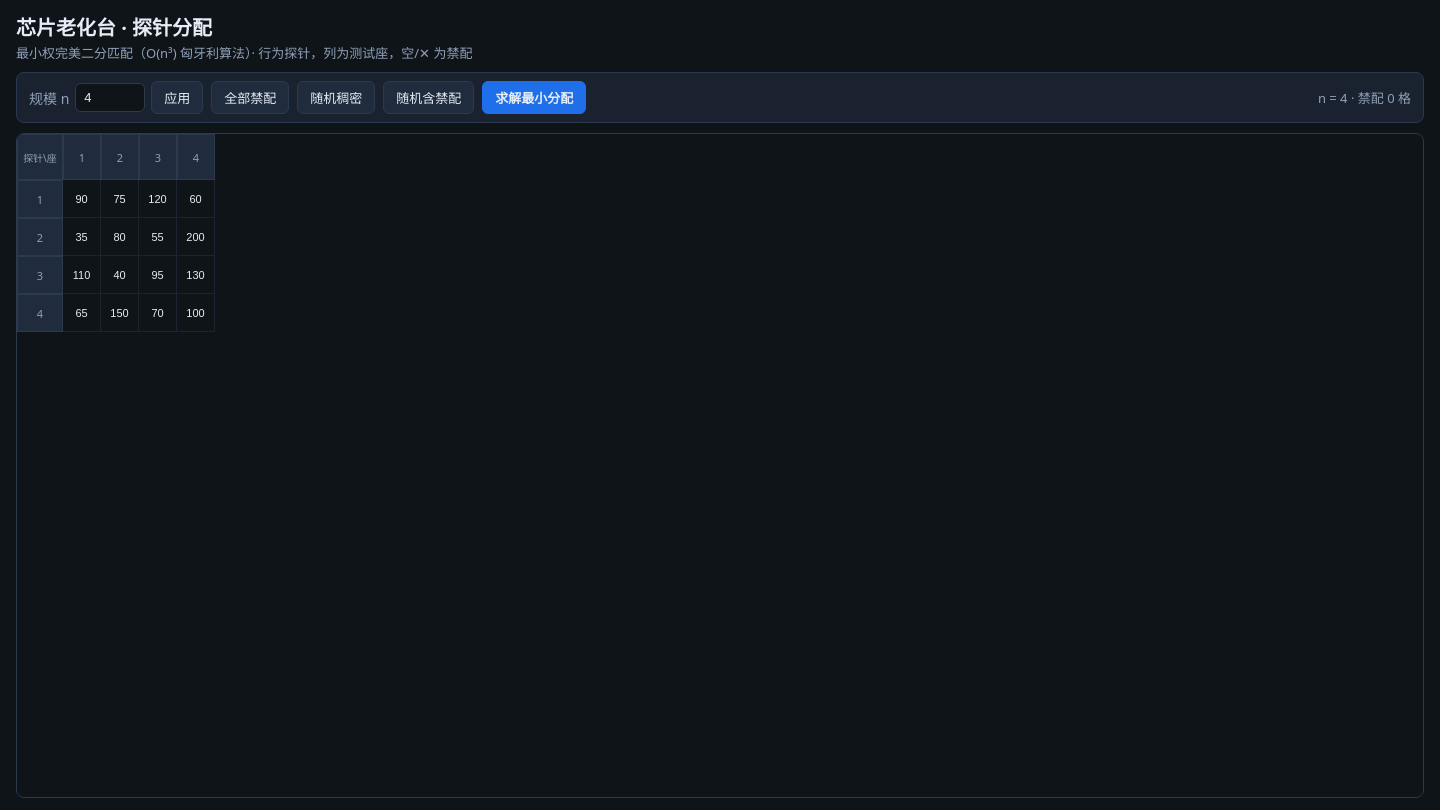
it: App 页面：请求锁定 / 编辑清方案 / 排除重算 › 排除后返回 409 NO_PERFECT_ASSIGNMENT：展示无解且清除旧方案
The width and height of the screenshot is (1440, 810).
Click the button "求解最小分配". click: (534, 98)
box: [482, 81, 586, 114]
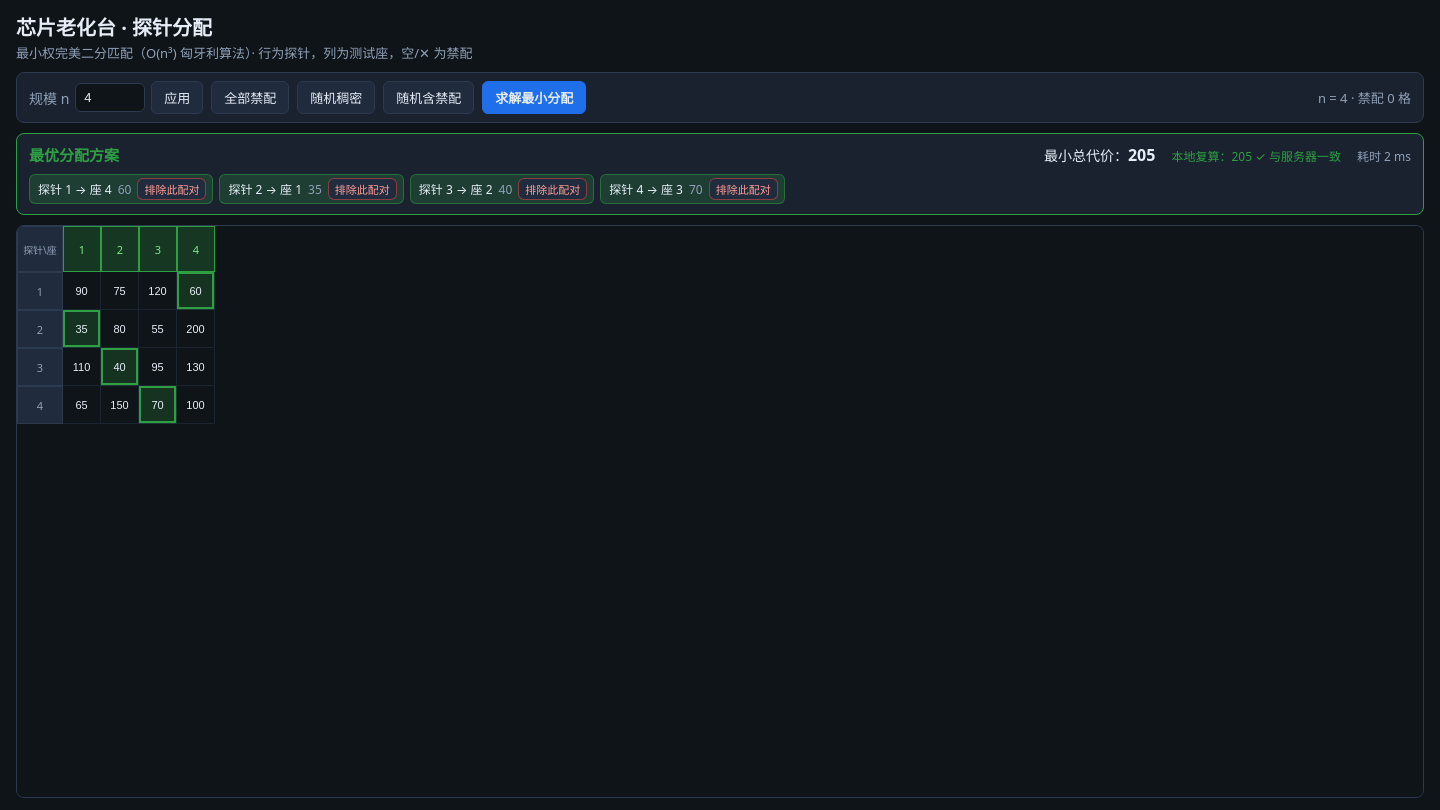
Expected: the heading "最优分配方案" is shown, [29, 144, 119, 165]
Click the 1st button "排除此配对". click: (172, 189)
box: [137, 178, 206, 200]
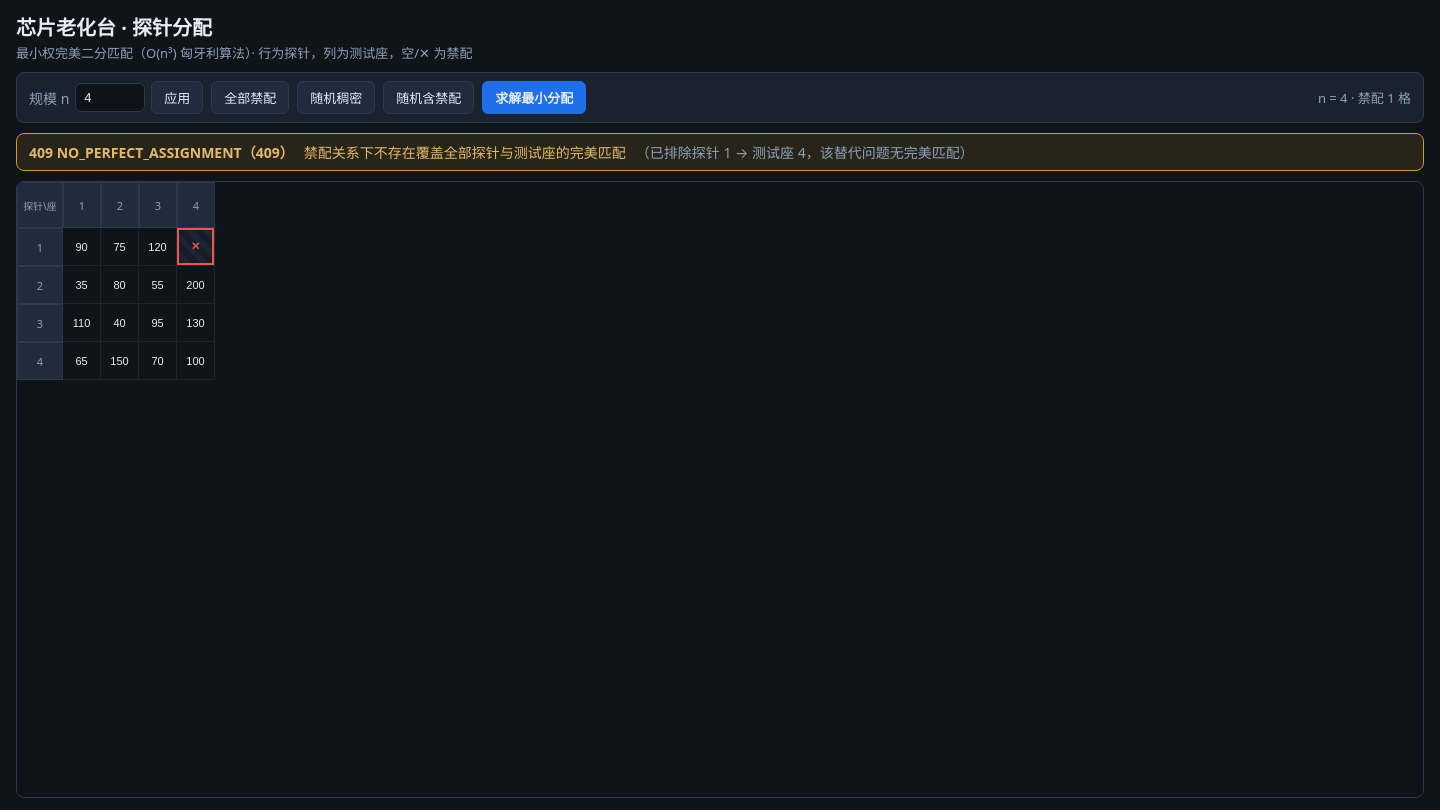
Expected: the text "409 NO_PERFECT_ASSIGNMENT（409）" is shown, [29, 142, 294, 162]
Expected: the heading "最优分配方案" is gone
